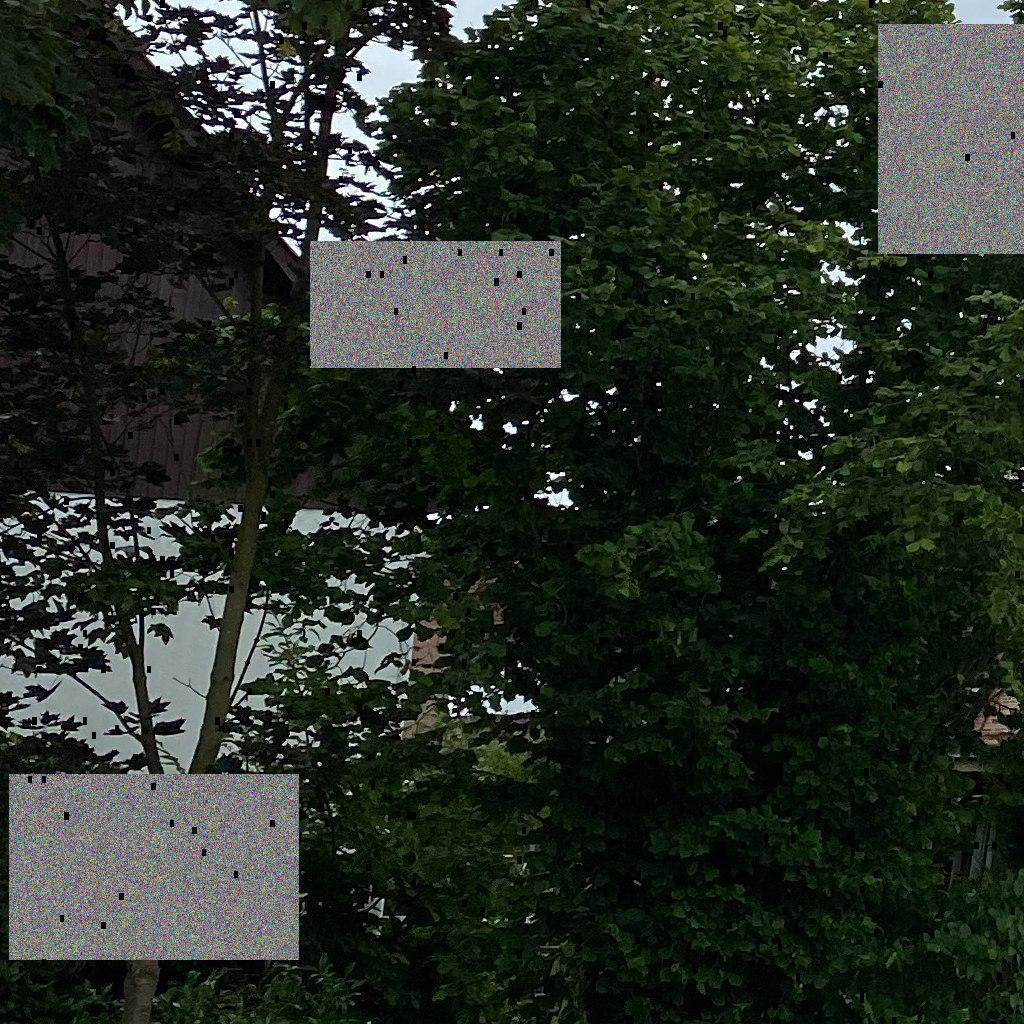tree: (176, 1, 1024, 1024), (1, 1, 460, 1023)
